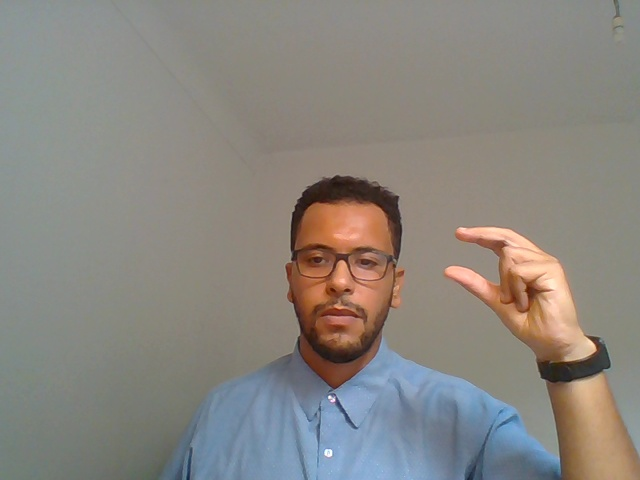no: (431, 199, 609, 432)
